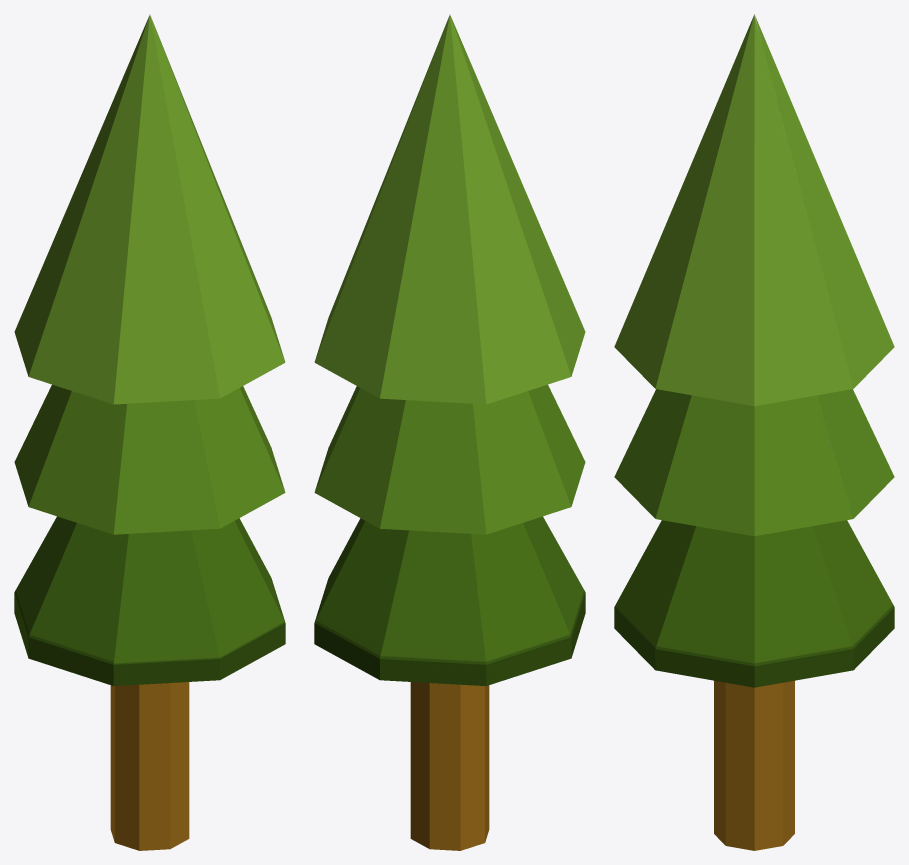
File: arbol.fbx
3 views of the same model, side by side, from view 1: azimuth 30°, elevation 25°; view 2: azimuth 150°, elevation 25°; view 3: azimuth 270°, elevation 25° (orthographic).
Parts seen in each view (by area): view 1: arbol; view 2: arbol; view 3: arbol.
Part boxes in pixels (<box>): arbol: <box>14,14,285,850</box>; arbol: <box>314,14,585,850</box>; arbol: <box>614,14,894,850</box>.
Bounding box in the file's own units: 10.85 × 35.01 × 10.85.
Materials: 1 (1 with a texture image).
